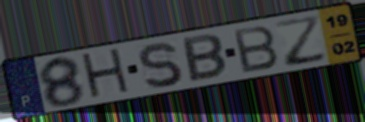8: (36, 54, 88, 110)
B: (230, 24, 281, 75), (180, 32, 229, 85)
H: (78, 46, 134, 103)
S: (135, 40, 185, 91)
Z: (272, 12, 330, 68)
